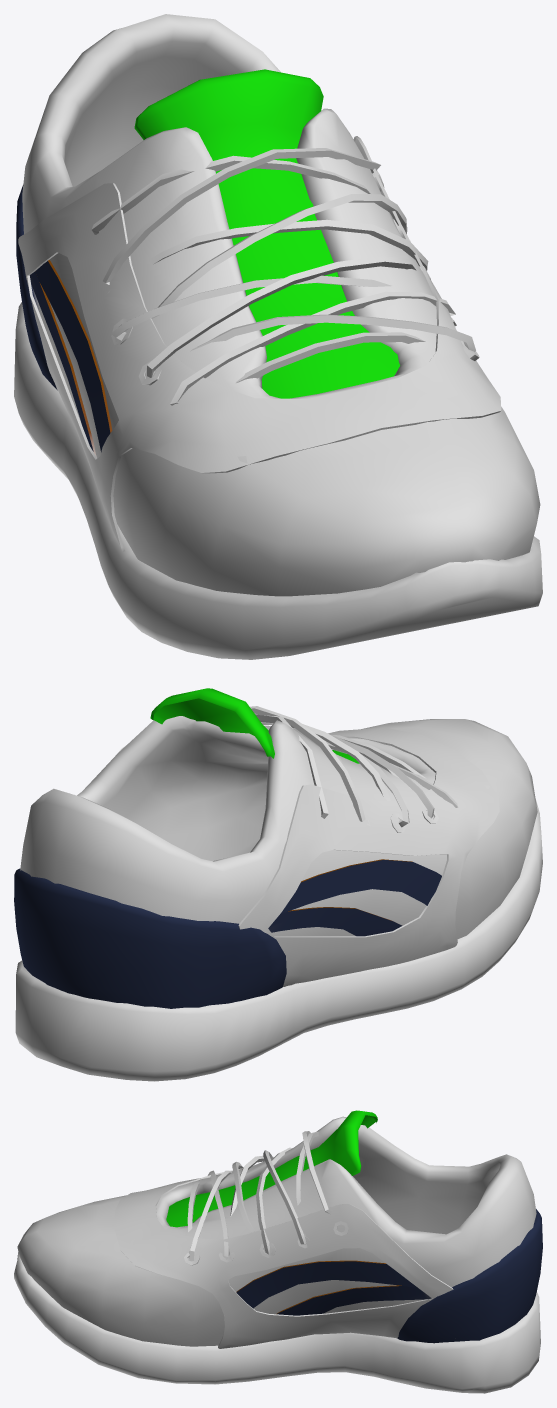
Rendered from Bambas.fbx.
3 views of the same model, one above another, from view 1: azimuth 30°, elevation 25°; view 2: azimuth 150°, elevation 25°; view 3: azimuth 270°, elevation 25° (orthographic). The views are drawn at different scales.
Visible parts, largest first — view 1: Bambas; view 2: Bambas; view 3: Bambas.
Part boxes in pixels (x1,y1,x2,y2): Bambas: (14, 14, 542, 659); Bambas: (14, 688, 542, 1081); Bambas: (14, 1110, 542, 1393).
Size of the model in its own units: 13.47 by 13.42 by 26.69.
